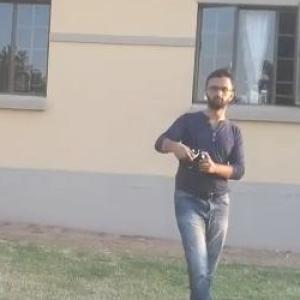follow: (149, 59, 251, 299)
